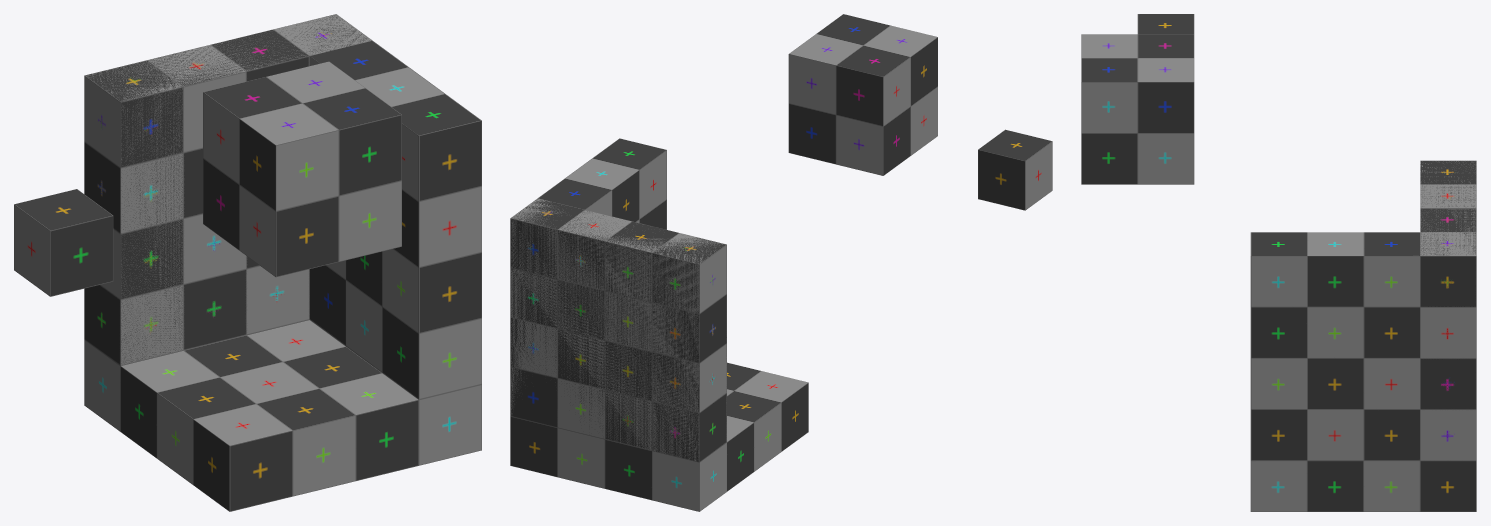
File: Modular Wall Doorway.glb
3 renders of one model, left to right at view 1: azimuth 30°, elevation 25°; view 2: azimuth 150°, elevation 25°; view 3: azimuth 270°, elevation 25°, orthographic. The views are drawn at different scales.
Parts seen in each view (by area): view 1: Modular Wall, Modular Floor, Modular Wall Corner, Modualr Test Cube 2x2, Modular Wall Doorway, Modualr Test Cube 1x1, Modular Pillar; view 2: Modular Wall, Modular Wall Corner, Modular Wall Doorway, Modualr Test Cube 2x2, Modular Floor, Modualr Test Cube 1x1, Modular Pillar; view 3: Modular Wall Corner, Modualr Test Cube 2x2, Modular Wall, Modular Floor, Modular Wall Doorway, Modualr Test Cube 1x1.
Part boxes in pixels (x1,y1,x2,y2): Modular Wall: (84, 14, 372, 365); Modular Floor: (84, 320, 481, 511); Modular Wall Corner: (85, 32, 481, 399); Modualr Test Cube 2x2: (203, 61, 401, 277); Modular Wall Doorway: (84, 14, 371, 365); Modualr Test Cube 1x1: (14, 189, 113, 296); Modular Pillar: (120, 88, 183, 365); Modular Wall: (510, 198, 726, 462); Modular Wall Corner: (510, 138, 725, 460); Modular Wall Doorway: (510, 198, 726, 461); Modualr Test Cube 2x2: (788, 14, 937, 175); Modular Floor: (510, 362, 808, 511); Modualr Test Cube 1x1: (978, 129, 1052, 210); Modular Pillar: (652, 254, 699, 461); Modular Wall Corner: (1250, 160, 1476, 460); Modualr Test Cube 2x2: (1081, 34, 1194, 184); Modular Wall: (1420, 160, 1476, 460); Modular Floor: (1250, 460, 1476, 511); Modular Wall Doorway: (1420, 160, 1476, 460); Modualr Test Cube 1x1: (1137, 14, 1194, 34).
Bounding box in the file's own units: 8 × 7 × 7.
1 material, 1 textured.
